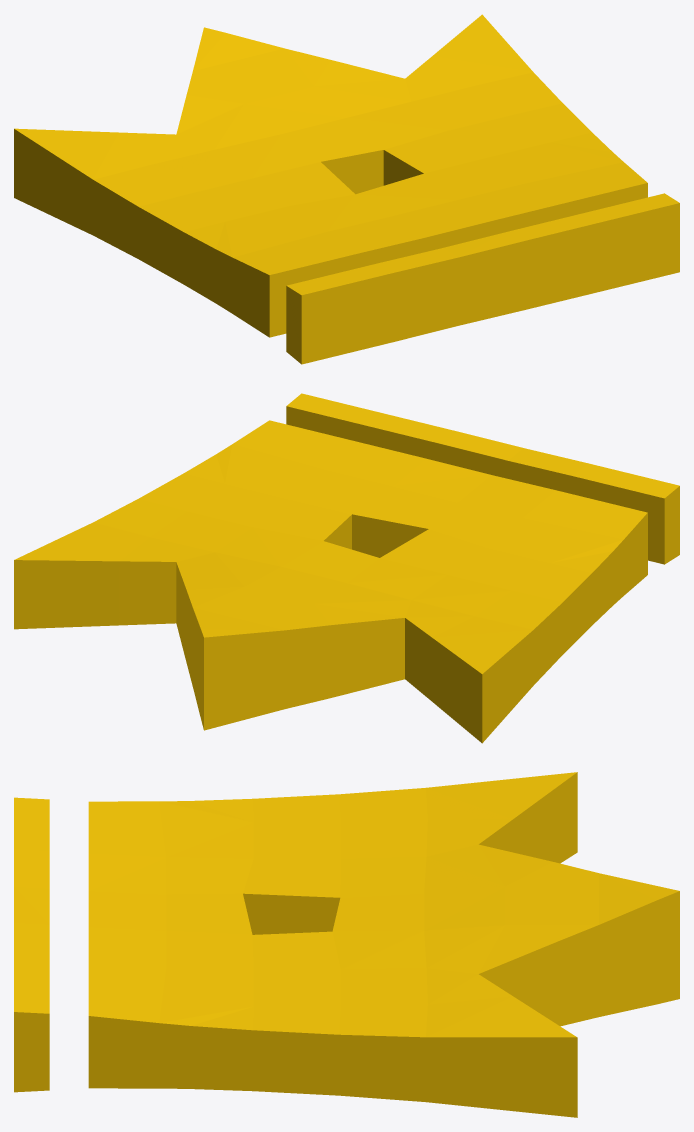
The model's file is crown.fbx.
3 renders of one model, top to bottom at view 1: azimuth 30°, elevation 25°; view 2: azimuth 150°, elevation 25°; view 3: azimuth 270°, elevation 25°, orthographic. The views are drawn at different scales.
Visible parts, largest first — view 1: Plane, Plane.001; view 2: Plane, Plane.001; view 3: Plane, Plane.001.
Part boxes in pixels (box(x1,y1,x2,y2)): Plane: box(14, 14, 647, 337); Plane.001: box(286, 193, 679, 364); Plane: box(14, 420, 647, 743); Plane.001: box(286, 393, 679, 564); Plane: box(88, 772, 679, 1117); Plane.001: box(14, 797, 49, 1092).
Bounding box in the file's own units: 90.38 × 17.15 × 95.88.
